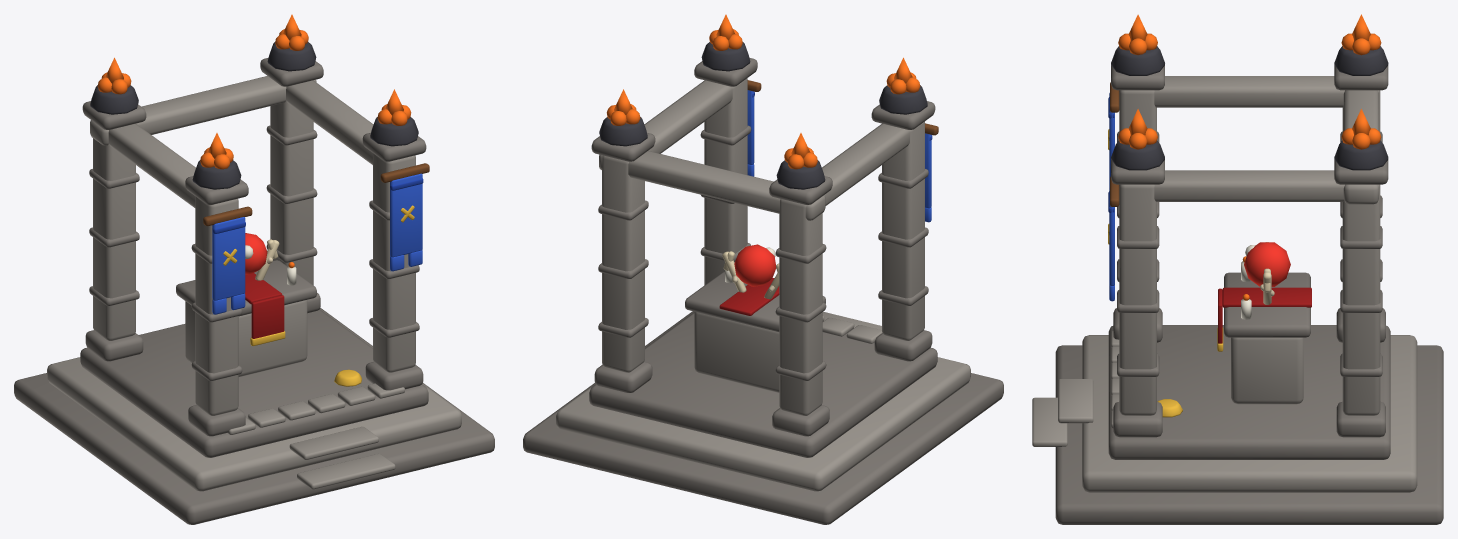
Rendered from Shrine.glb.
3 views of the same model, side by side, from view 1: azimuth 30°, elevation 25°; view 2: azimuth 150°, elevation 25°; view 3: azimuth 270°, elevation 25° (orthographic). The views are drawn at different scales.
Visible parts, largest first — view 1: Shrine; view 2: Shrine; view 3: Shrine.
Part boxes in pixels (x1=…): Shrine: x1=14, y1=14, x2=494, y2=524; Shrine: x1=523, y1=14, x2=1003, y2=524; Shrine: x1=1032, y1=14, x2=1443, y2=524.
Size of the model in its own units: 3.3 by 3.61 by 3.5.
